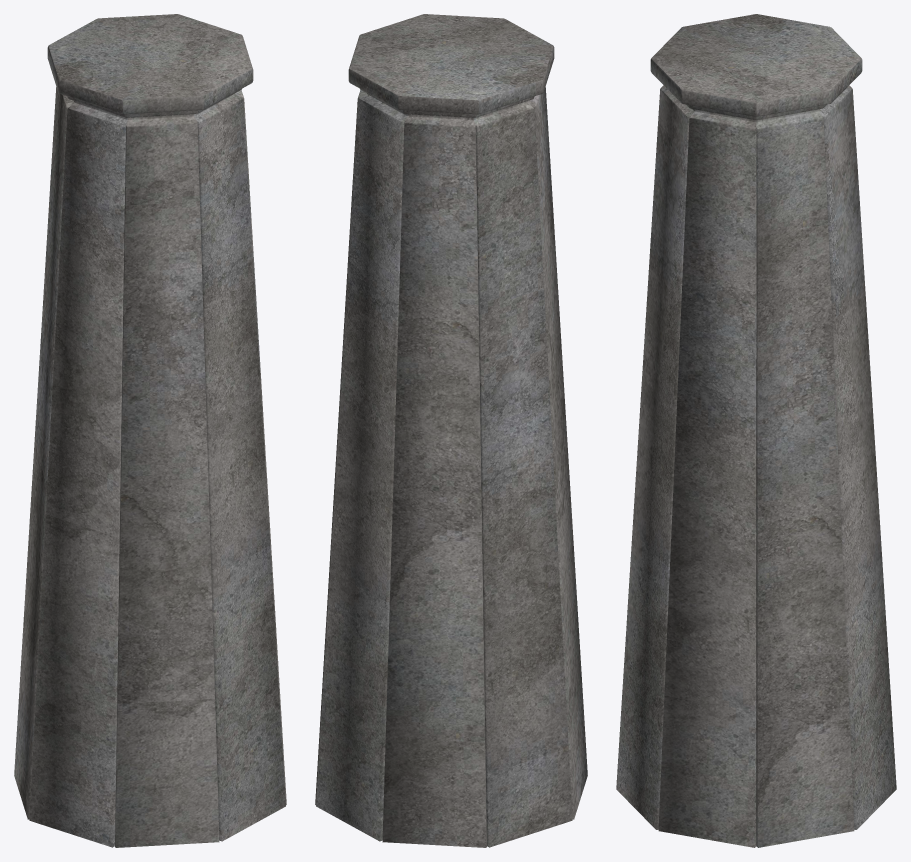
The model's file is SM_Pillar_5.FBX.
3 renders of one model, left to right at view 1: azimuth 30°, elevation 25°; view 2: azimuth 150°, elevation 25°; view 3: azimuth 270°, elevation 25°, orthographic.
Parts seen in each view (by area): view 1: SM_Pillar_5; view 2: SM_Pillar_5; view 3: SM_Pillar_5.
Boxes of the visible parts, x1,y1,x2,y2 form: SM_Pillar_5: (14,14,286,847); SM_Pillar_5: (315,14,587,847); SM_Pillar_5: (616,14,896,847).
Size of the model in its own units: 97.32 by 280 by 97.32.
